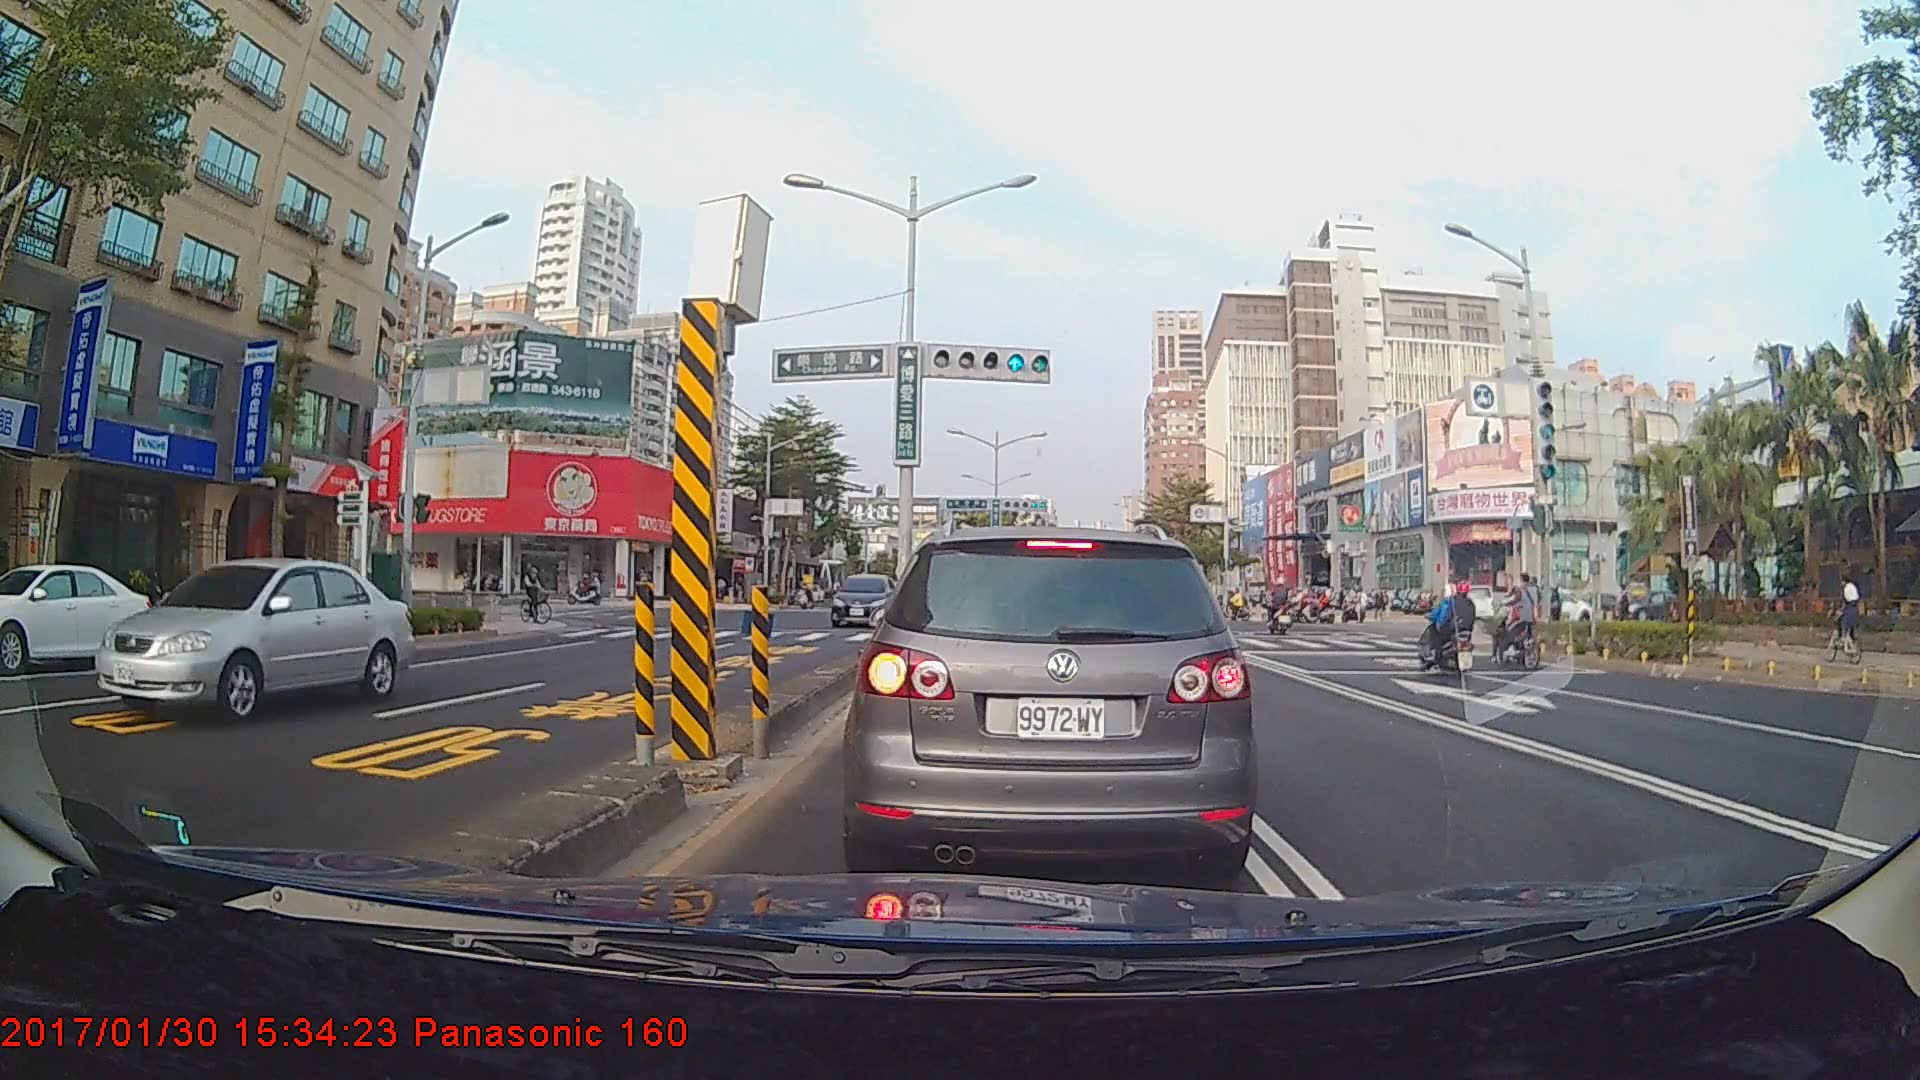pedestrian: (1613, 581, 1633, 640)
rider: (1425, 580, 1483, 678), (1483, 570, 1538, 671), (1821, 576, 1875, 666), (518, 559, 561, 629), (1259, 576, 1303, 638), (563, 571, 602, 608)
vehicle: (853, 521, 1249, 886), (91, 558, 410, 723), (0, 561, 156, 671), (828, 572, 905, 629)
